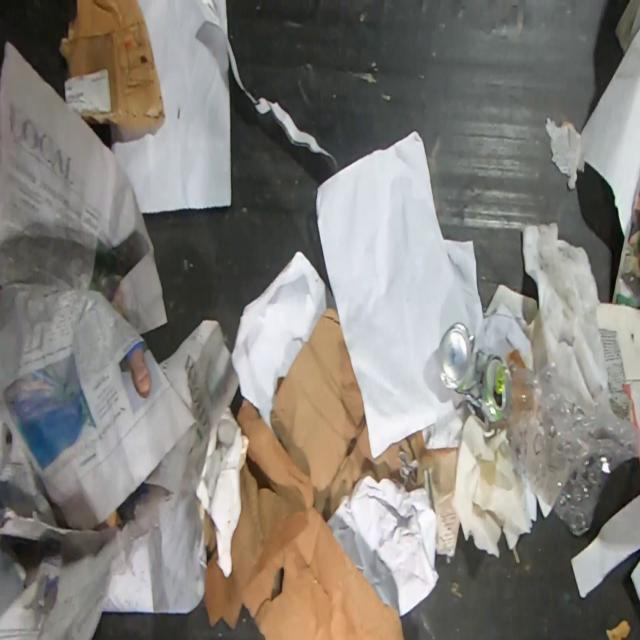cardboard: (270, 305, 460, 556), (203, 458, 404, 639), (60, 0, 166, 130), (236, 398, 316, 507), (605, 620, 631, 639)
metal: (438, 323, 512, 422)
soft_plastic: (502, 358, 640, 535)
